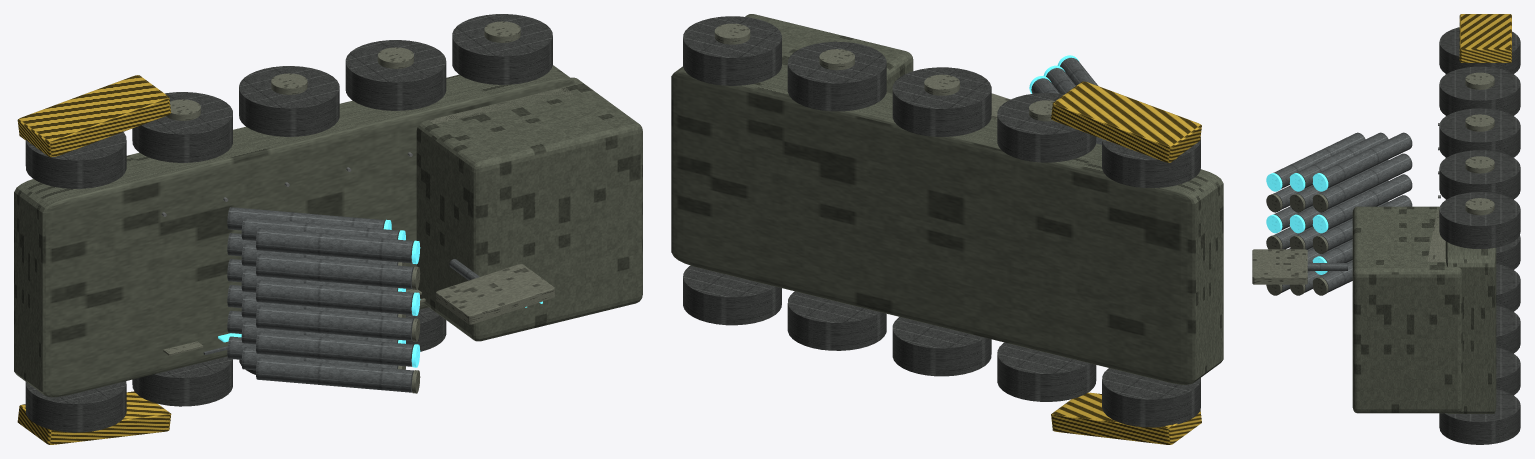
Rendered from v-x03-vanguard-drone-lod0.glb.
3 renders of one model, left to right at view 1: azimuth 30°, elevation 25°; view 2: azimuth 150°, elevation 25°; view 3: azimuth 270°, elevation 25°, orthographic. The views are drawn at different scales.
Parts seen in each view (by area): view 1: strategic_lower, strategic_cab, strategic_jack_1, strategic_wheel_1_3, strategic_wheel_1_4, strategic_wheel_1_2, strategic_wheel_1_1, drone_control_array, strategic_wheel_1_0, strategic_wheel_-1_0, drone_cells_tube_13, drone_cells_tube_15 (+19 smaller); view 2: strategic_lower, strategic_jack_1, strategic_wheel_1_2, strategic_wheel_1_3, strategic_wheel_1_4, strategic_wheel_-1_0, strategic_wheel_-1_2, strategic_wheel_-1_3, strategic_wheel_-1_1, strategic_wheel_-1_4, strategic_wheel_1_1, strategic_jack_-1 (+6 smaller); view 3: strategic_cab, strategic_lower, strategic_wheel_1_4, strategic_wheel_1_2, strategic_wheel_1_3, strategic_wheel_1_1, strategic_wheel_-1_4, strategic_jack_1, drone_control_array, drone_cells_tube_5, drone_cells_tube_6, drone_cells_tube_4 (+22 smaller).
Part boxes in pixels (<box>): strategic_lower: <box>14,65,575,397</box>; strategic_cab: <box>416,77,642,341</box>; strategic_jack_1: <box>17,75,171,157</box>; strategic_wheel_1_3: <box>345,40,446,110</box>; strategic_wheel_1_4: <box>452,14,552,84</box>; strategic_wheel_1_2: <box>239,66,339,136</box>; strategic_wheel_1_1: <box>132,92,232,162</box>; drone_control_array: <box>436,264,555,324</box>; strategic_wheel_1_0: <box>25,132,126,188</box>; strategic_wheel_-1_0: <box>25,381,126,432</box>; drone_cells_tube_13: <box>256,357,413,392</box>; drone_cells_tube_15: <box>256,305,413,340</box>; strategic_lower: <box>671,66,1223,384</box>; strategic_jack_1: <box>1051,81,1201,162</box>; strategic_wheel_1_2: <box>892,67,991,136</box>; strategic_wheel_1_3: <box>787,41,886,111</box>; strategic_wheel_1_4: <box>683,16,781,85</box>; strategic_wheel_-1_0: <box>1102,368,1200,427</box>; strategic_wheel_-1_2: <box>892,317,991,376</box>; strategic_wheel_-1_3: <box>787,291,886,350</box>; strategic_wheel_-1_1: <box>997,342,1096,401</box>; strategic_wheel_-1_4: <box>683,265,781,325</box>; strategic_wheel_1_1: <box>997,93,1096,162</box>; strategic_jack_-1: <box>1051,392,1201,444</box>; strategic_cab: <box>1352,206,1462,413</box>; strategic_lower: <box>1445,74,1496,413</box>; strategic_wheel_1_4: <box>1439,192,1520,248</box>; strategic_wheel_1_2: <box>1439,108,1520,157</box>; strategic_wheel_1_3: <box>1439,150,1520,199</box>; strategic_wheel_1_1: <box>1439,66,1520,115</box>; strategic_wheel_-1_4: <box>1439,389,1520,444</box>; strategic_jack_1: <box>1459,14,1511,62</box>; drone_control_array: <box>1252,249,1307,284</box>; drone_cells_tube_5: <box>1319,153,1412,209</box>; drone_cells_tube_6: <box>1319,132,1412,188</box>; drone_cells_tube_4: <box>1319,174,1412,230</box>.
Size of what is drawn, in the model's own units: 9.22 by 5.41 by 4.9.
Materials: 7 (7 with a texture image).
